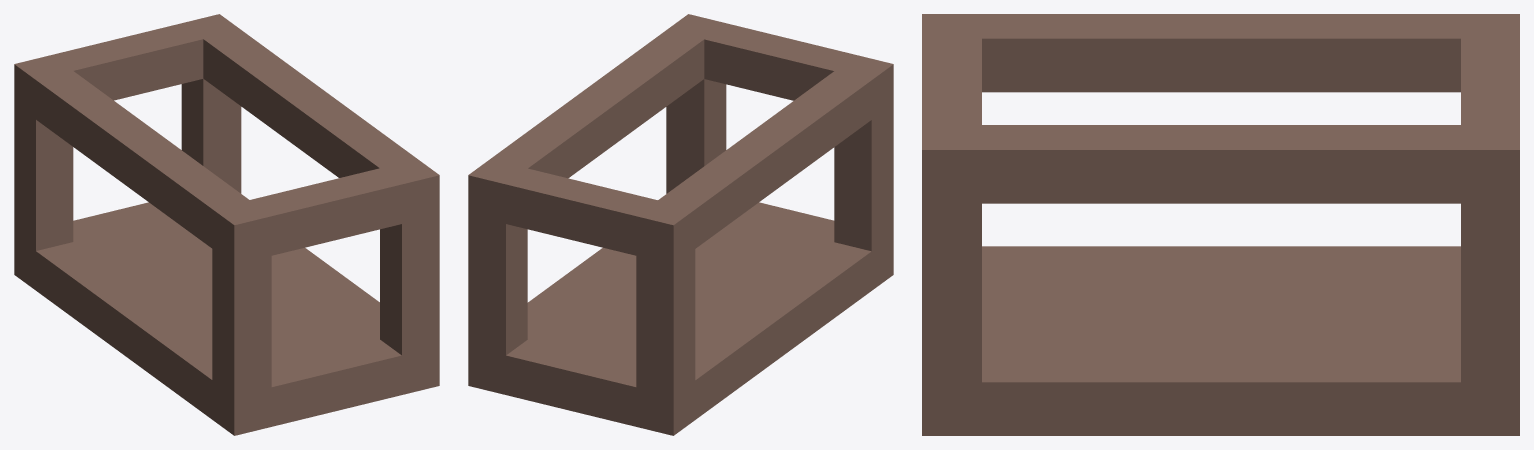
Rendered from hollow_box_panjang.glb.
3 views of the same model, side by side, from view 1: azimuth 30°, elevation 25°; view 2: azimuth 150°, elevation 25°; view 3: azimuth 270°, elevation 25° (orthographic). The views are drawn at different scales.
Parts seen in each view (by area): view 1: rock02_Mesh_007_Base_0.4355; view 2: rock02_Mesh_007_Base_0.4355; view 3: rock02_Mesh_007_Base_0.4355.
Boxes of the visible parts, bbox=[...] form: rock02_Mesh_007_Base_0.4355: bbox=[14, 14, 439, 435]; rock02_Mesh_007_Base_0.4355: bbox=[468, 14, 893, 435]; rock02_Mesh_007_Base_0.4355: bbox=[922, 14, 1519, 435].
Bounding box in the file's own units: 0.6 × 0.5881 × 1.11.
1 material, 1 textured.
